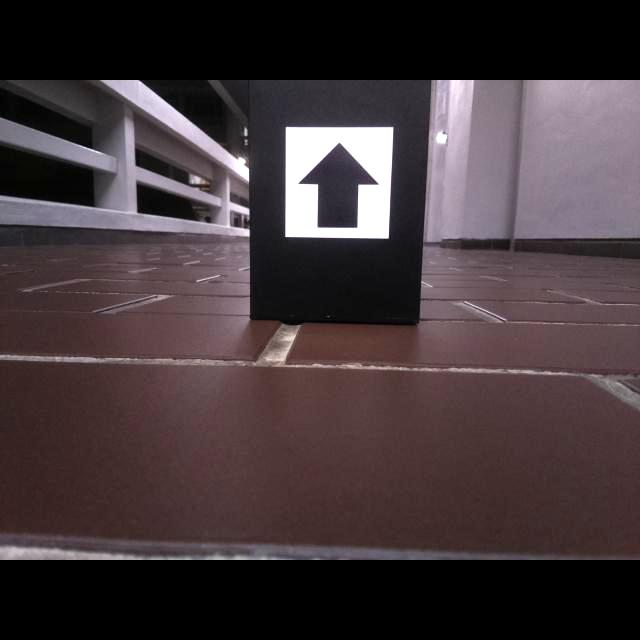UP: (297, 141, 379, 229)
